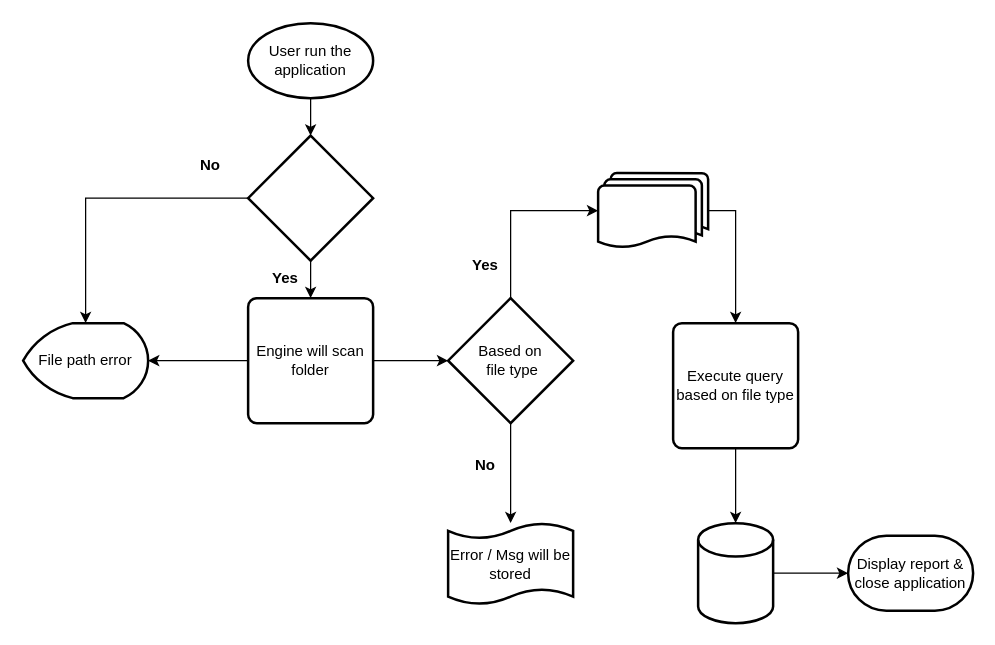
Image size: 995x645. Some labels were removed from this diagram. The shapes that lost their labels are listed below. From the top down, each one's centre as x and y in pixels, then its label:
the point at 310,197: User input file path
the point at 652,210: Query set
the point at 735,572: Store reports
